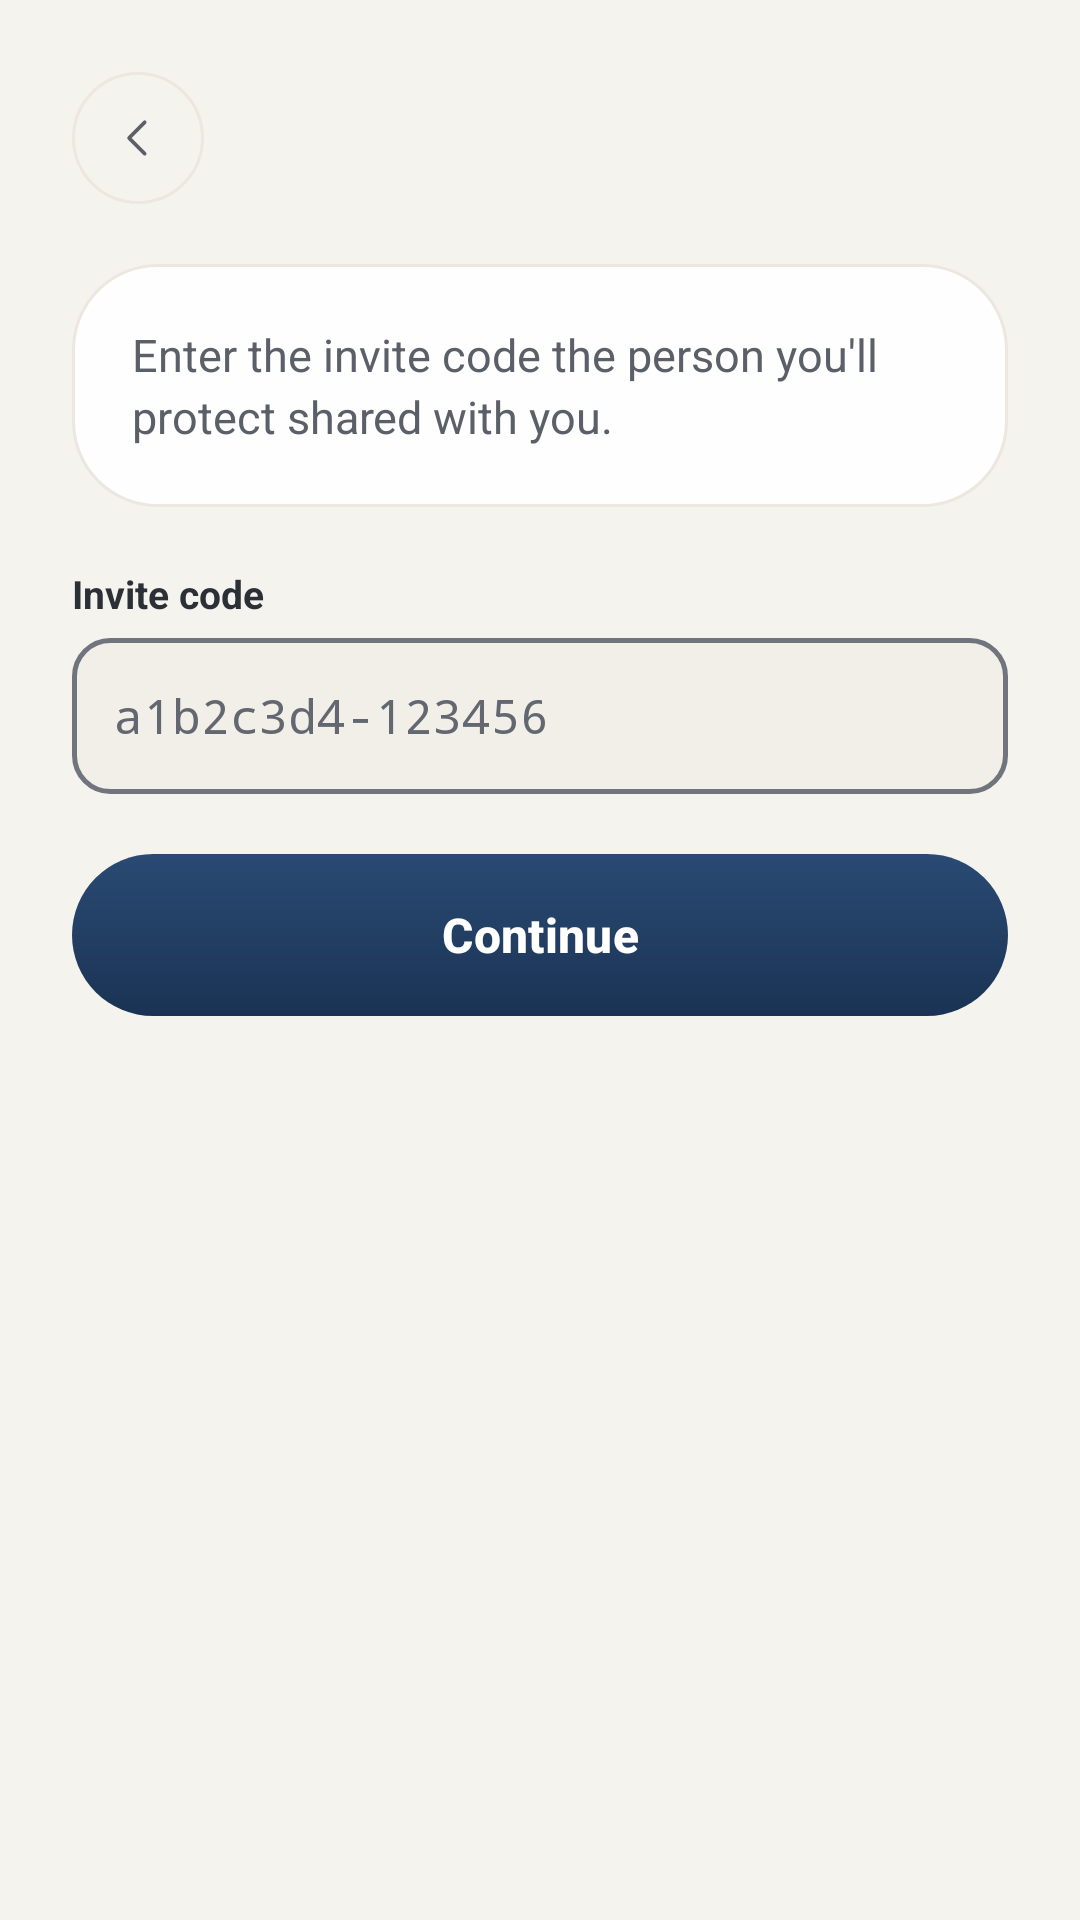

Point at icon controls on the screen. Image size 1080w x 1920h, points as (x=x, y=y).
Back: (x=137, y=138)
